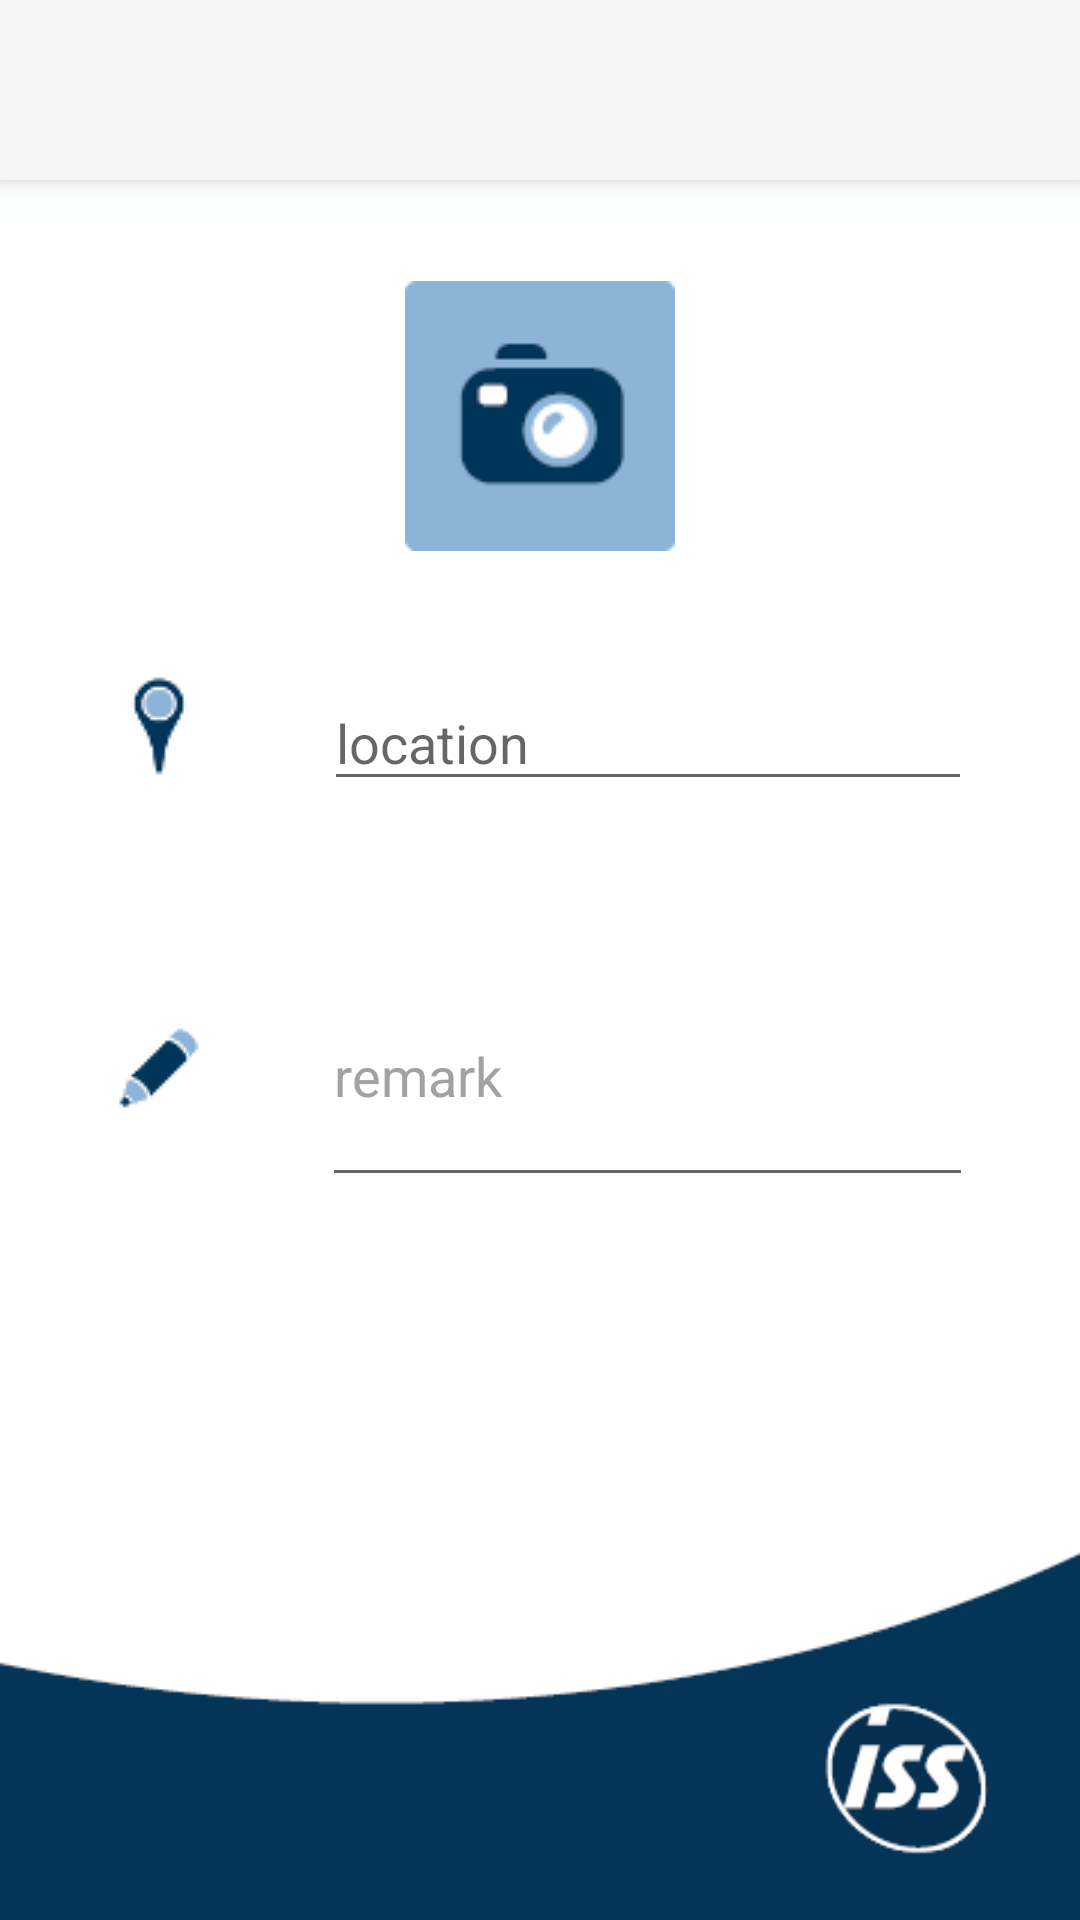

Where icons sit on this 1080px x 1920px app screen, as (x1, y1, x2, y2):
edit: (119, 1028, 199, 1108)
foti: (405, 281, 675, 551)
